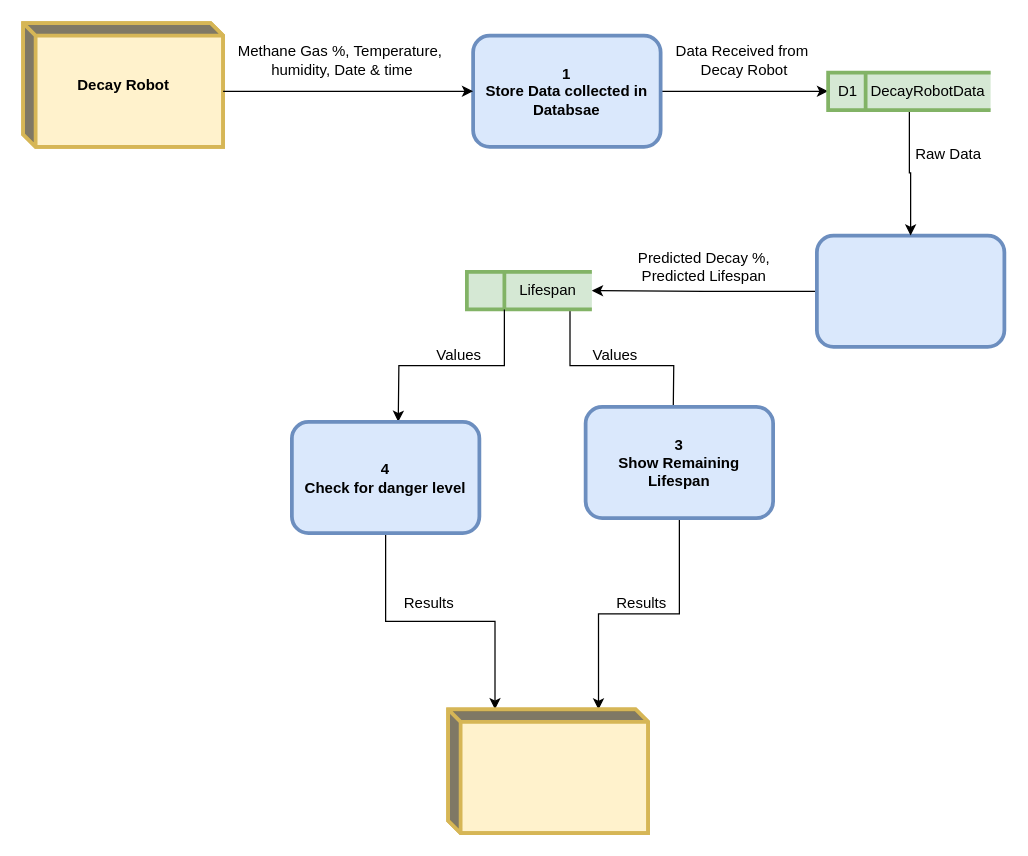
Image size: 1028x856. Some labels were removed from this diagram. Each missing label, with the box of its shape:
2 Machine Learning Algorithm: (814, 233, 1006, 348)
D2: (464, 269, 593, 311)
User: (446, 707, 649, 834)
